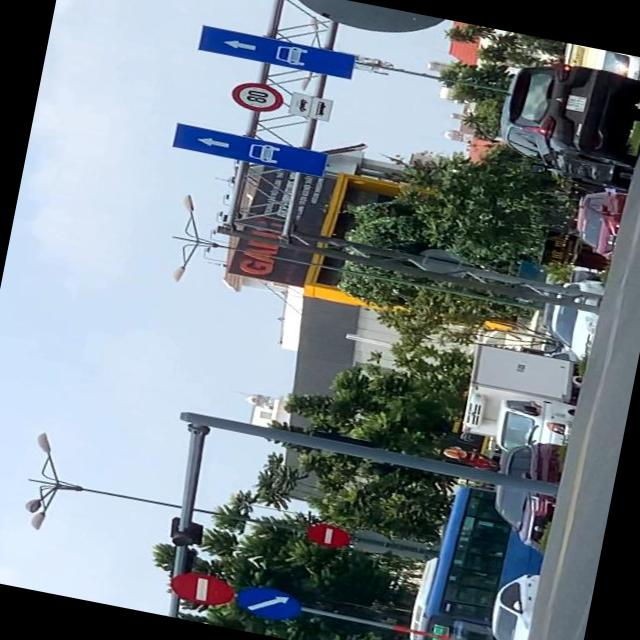P-102: (168, 566, 236, 608), (307, 523, 351, 550)
R-302a: (237, 583, 300, 621)
